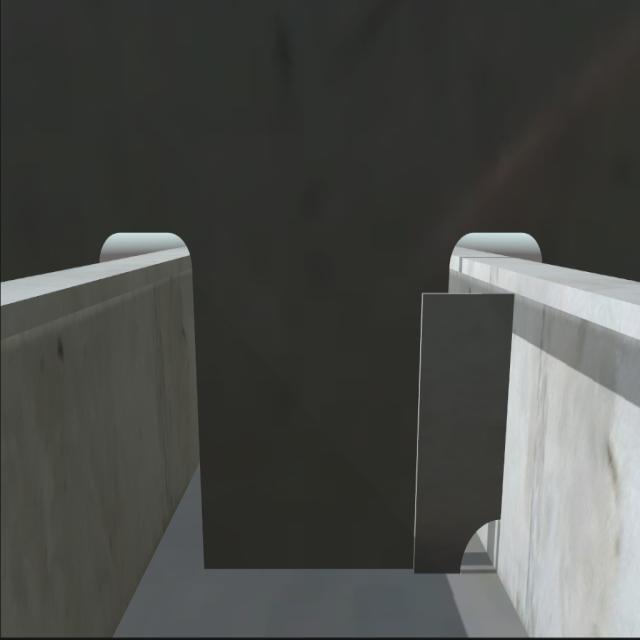fillet_hole: (458, 514, 498, 572)
fillet_yong_jeop_jang: (202, 552, 463, 583)
longi_yong_jeop_jang: (500, 279, 516, 533)
plate_CP01: (418, 295, 508, 576)
